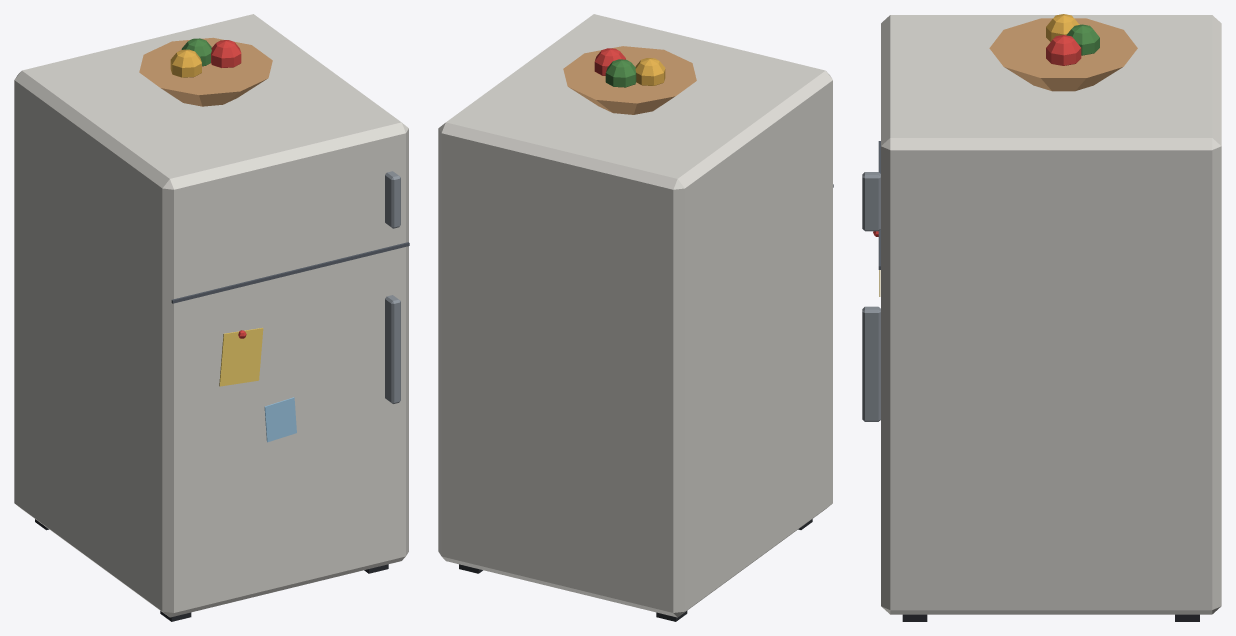
File: mini_fridge.glb
3 renders of one model, left to right at view 1: azimuth 30°, elevation 25°; view 2: azimuth 150°, elevation 25°; view 3: azimuth 270°, elevation 25°, orthographic. The views are drawn at different scales.
Visible parts, largest first — view 1: MiniFridge; view 2: MiniFridge; view 3: MiniFridge.
Boxes of the visible parts, left/top/right/bottom form: MiniFridge: left=14, top=14, right=409, bottom=621; MiniFridge: left=438, top=14, right=833, bottom=621; MiniFridge: left=862, top=14, right=1221, bottom=621.
Size of the model in its own units: 0.5 by 0.96 by 0.58.
